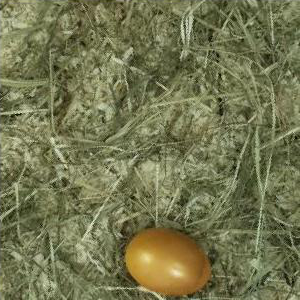egg: (123, 226, 211, 298)
